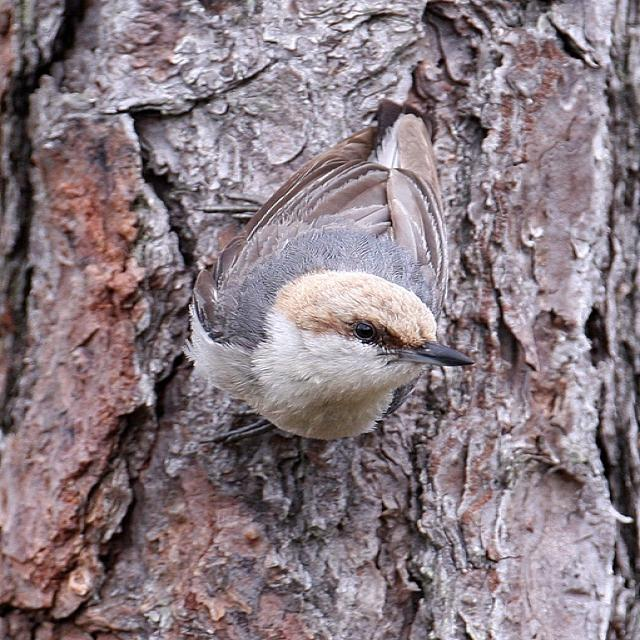bird: (174, 111, 490, 455)
